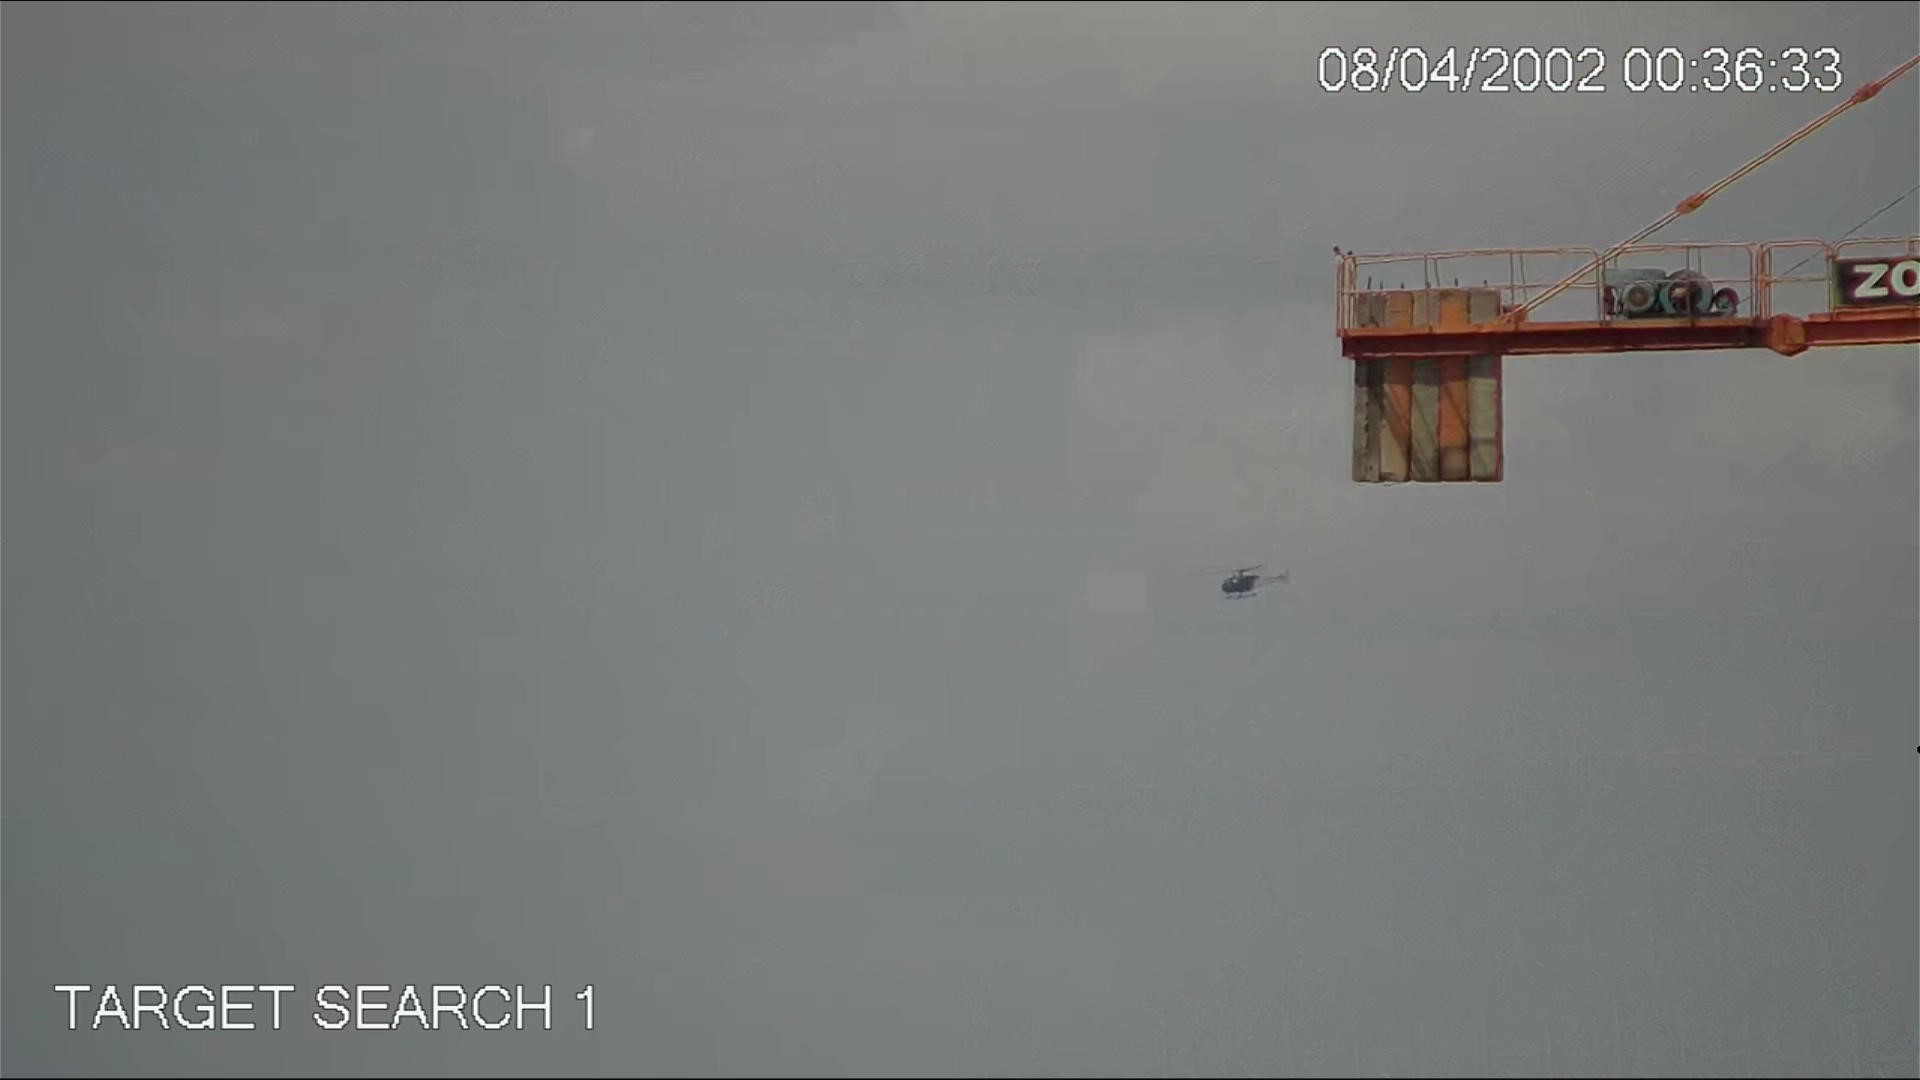SU_30: (1212, 560, 1296, 603)
